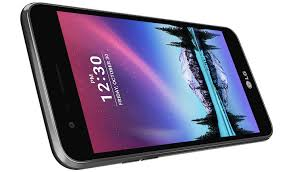lg: (20, 1, 272, 172)
